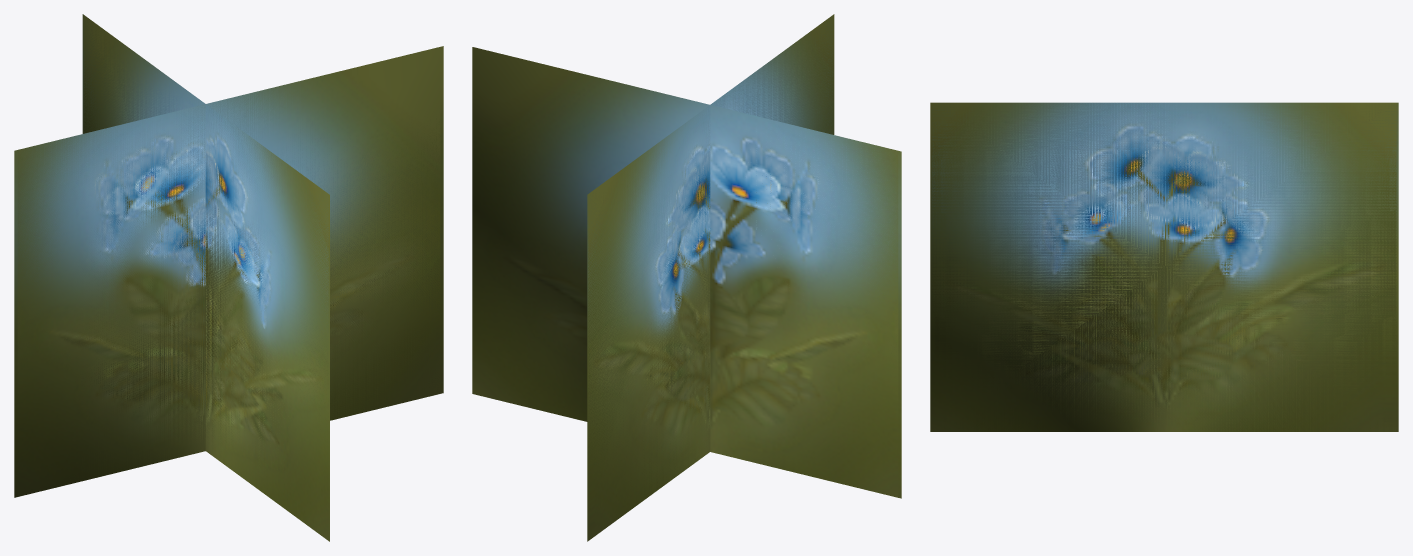
Rendered from Flower_05_LOD1.fbx.
3 views of the same model, side by side, from view 1: azimuth 30°, elevation 25°; view 2: azimuth 150°, elevation 25°; view 3: azimuth 270°, elevation 25° (orthographic). The views are drawn at different scales.
Parts seen in each view (by area): view 1: polySurface170; view 2: polySurface170; view 3: polySurface170.
Boxes of the visible parts, box(x1,y1,x2,y2) form: polySurface170: box(14, 14, 443, 541); polySurface170: box(472, 14, 901, 541); polySurface170: box(930, 102, 1398, 431).
Bounding box in the file's own units: 71.29 × 55.06 × 71.03.
Materials: 1 (1 with a texture image).
